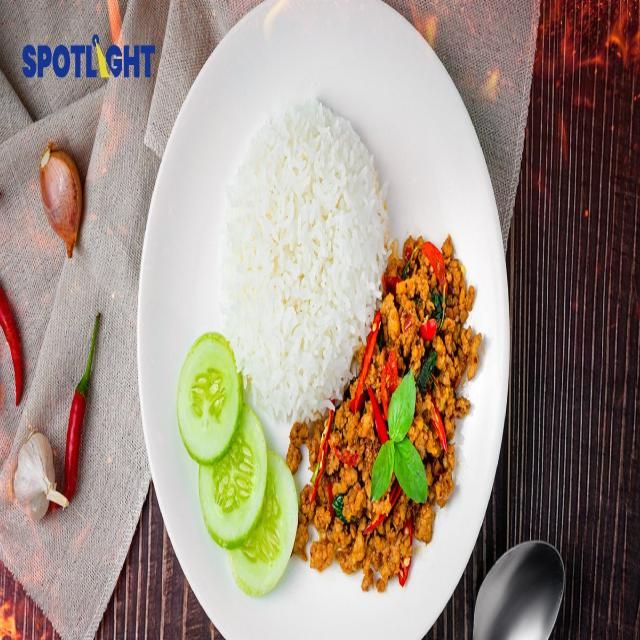Carbohydrate: (216, 102, 386, 424)
Kaow-Padkrapao: (139, 0, 511, 640)
Protein: (286, 233, 482, 594)
Vegetable: (176, 333, 295, 606)
